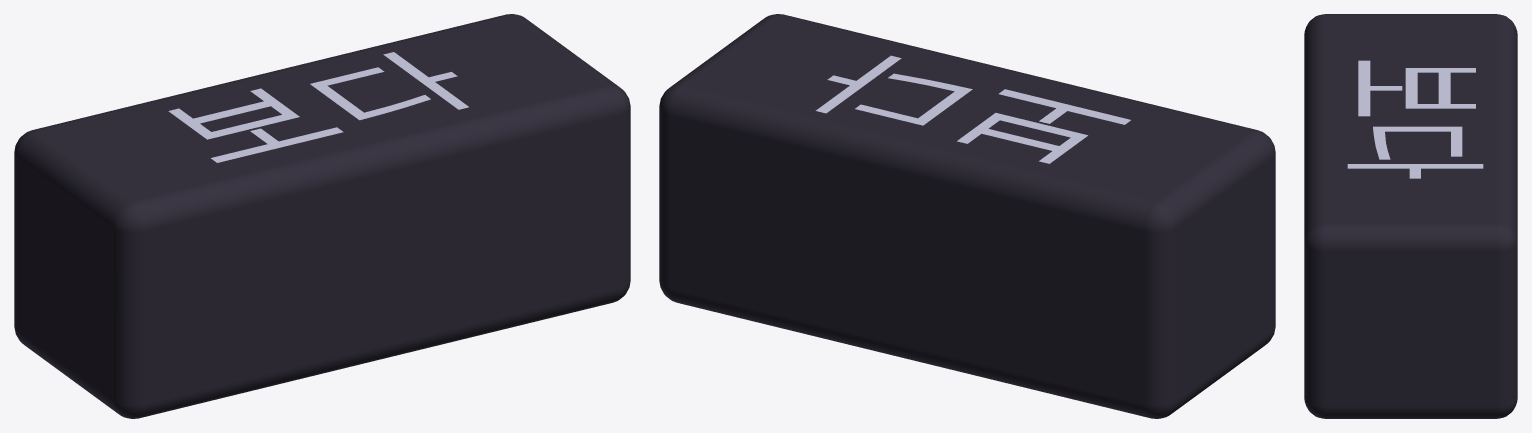
Rendered from see.glb.
The picture shows the model from 3 angles, left to right: view 1: azimuth 30°, elevation 25°; view 2: azimuth 150°, elevation 25°; view 3: azimuth 270°, elevation 25°; orthographic projection. The views are drawn at different scales.
Visible parts, largest first — view 1: Cut, Extrude; view 2: Cut, Extrude; view 3: Cut, Extrude.
Part boxes in pixels (box(x1,y1,x2,y2)): Cut: box(14, 14, 630, 418); Extrude: box(168, 52, 468, 162); Cut: box(659, 14, 1275, 418); Extrude: box(815, 55, 1130, 163); Cut: box(1304, 14, 1517, 418); Extrude: box(1347, 60, 1483, 178).
Bounding box in the file's own units: 5 × 2 × 2.
